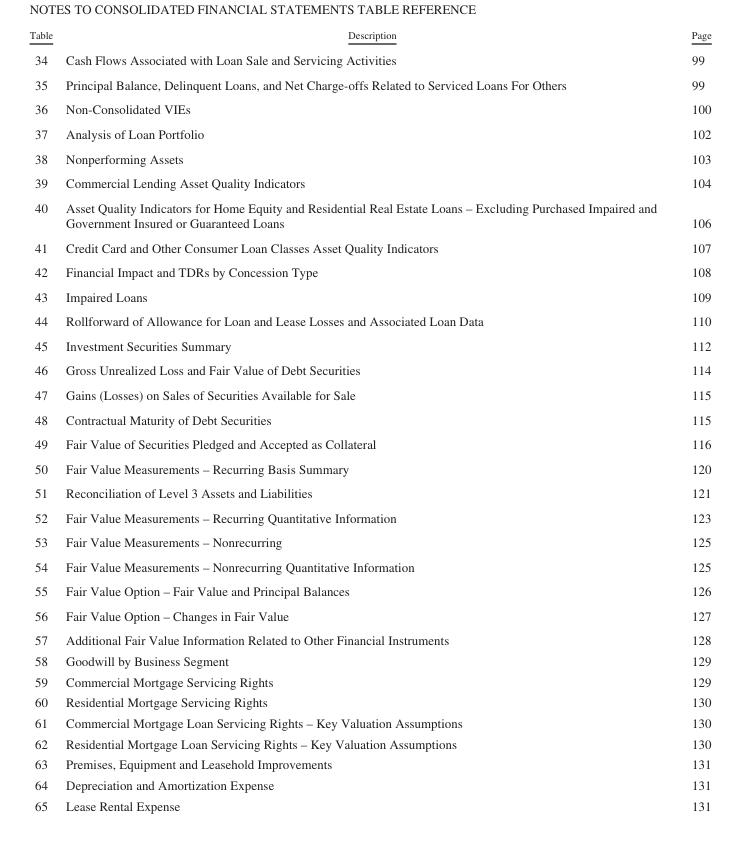table: (28, 29, 710, 812)
table column: (58, 29, 673, 812), (673, 29, 710, 812), (28, 29, 58, 812)
table column header: (28, 29, 710, 46)
table row: (28, 194, 710, 234), (28, 46, 710, 72), (28, 96, 710, 121), (28, 145, 710, 170), (28, 234, 710, 259), (28, 259, 710, 284), (28, 308, 710, 333), (28, 357, 710, 382), (28, 406, 710, 431), (28, 455, 710, 480), (28, 480, 710, 505), (28, 529, 710, 554), (28, 578, 710, 603), (28, 72, 710, 96), (28, 121, 710, 145), (28, 170, 710, 194), (28, 284, 710, 308), (28, 333, 710, 357), (28, 382, 710, 406), (28, 431, 710, 455), (28, 505, 710, 529), (28, 554, 710, 578), (28, 603, 710, 627), (28, 627, 710, 650), (28, 650, 710, 671), (28, 691, 710, 712), (28, 712, 710, 733), (28, 753, 710, 774), (28, 774, 710, 795), (28, 671, 710, 691), (28, 733, 710, 753), (28, 29, 710, 46), (28, 795, 710, 812)
